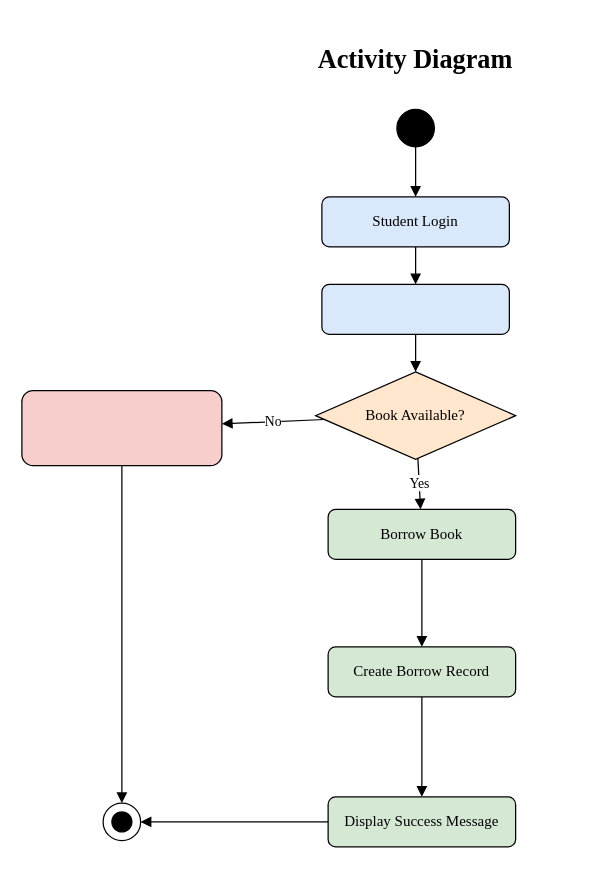
The diagram is 600 pixels wide and 869 high, and some of its shapes have lost their labels. Each missing label, with the centre of its shape:
Display Book Not Available Message: the point at 121,427
Search Books: the point at 415,308
